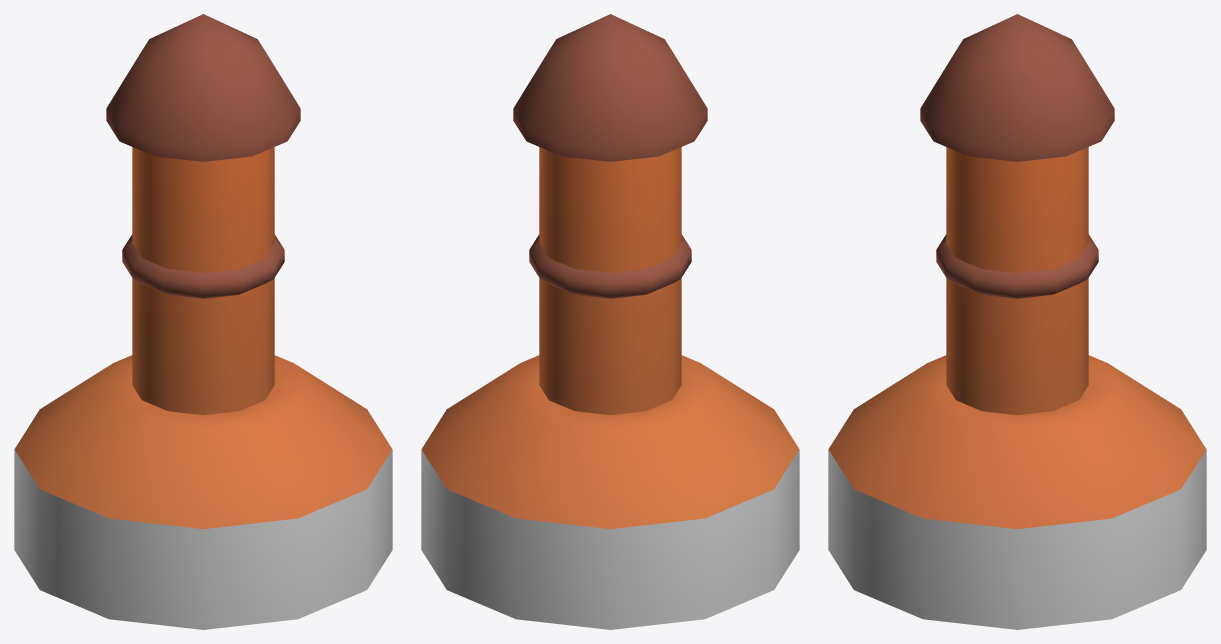
File: Buoy_Cylinder_A.fbx
3 views of the same model, side by side, from view 1: azimuth 30°, elevation 25°; view 2: azimuth 150°, elevation 25°; view 3: azimuth 270°, elevation 25° (orthographic).
Visible parts, largest first — view 1: Buoy_Cylinder_A; view 2: Buoy_Cylinder_A; view 3: Buoy_Cylinder_A.
Boxes of the visible parts, box(x1,y1,x2,y2) form: Buoy_Cylinder_A: box(14, 14, 392, 629); Buoy_Cylinder_A: box(421, 14, 799, 629); Buoy_Cylinder_A: box(828, 14, 1206, 629).
Size of the model in its own units: 62.22 by 97.34 by 62.22.
